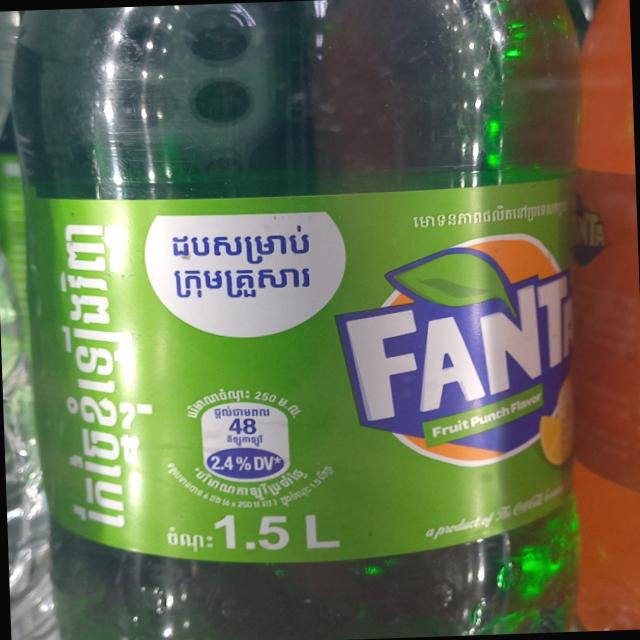523: (213, 510, 301, 554)
634: (205, 453, 234, 471)
680: (253, 390, 279, 405)
758: (228, 417, 258, 434)
Yolov11_80vkh: (46, 214, 158, 534), (407, 193, 574, 234), (162, 221, 319, 264), (169, 263, 320, 299), (189, 465, 310, 500), (183, 385, 251, 419), (155, 523, 215, 557), (214, 405, 270, 419), (275, 393, 304, 420), (222, 434, 266, 447)
